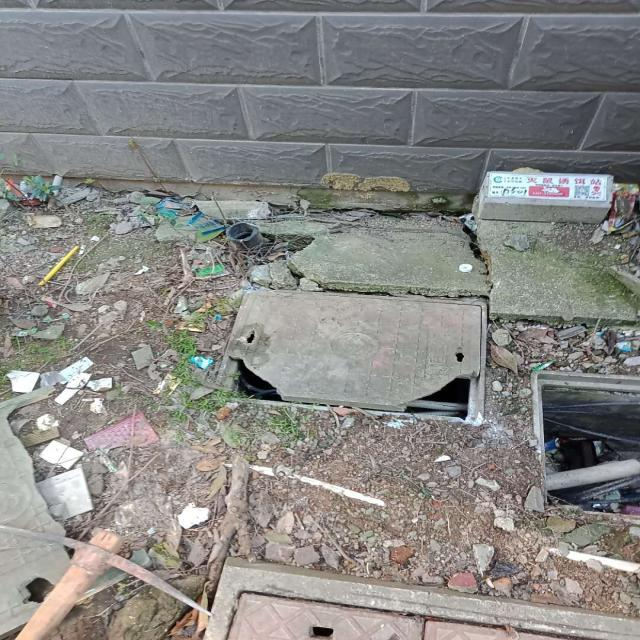Faulty: (206, 286, 489, 426)
